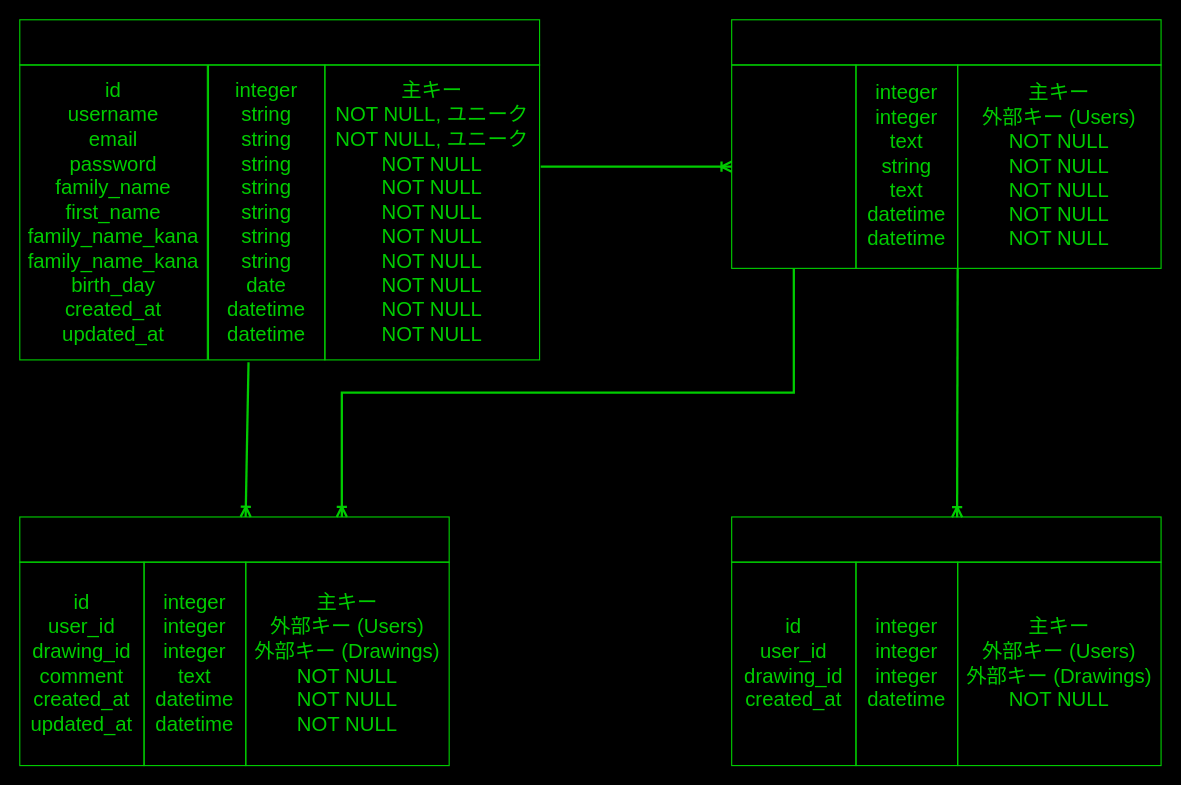
The diagram is 1181 pixels wide and 785 high, and some of its shapes have lost their labels. Here are the shapes that lost their labels. From the top down, the box of each, then its label:
(19, 19, 540, 65): Users
(731, 19, 1161, 65): Drawings
(731, 64, 856, 268): id user_id image_data title description created_at updated_at
(19, 516, 449, 562): Comments
(731, 516, 1161, 562): Likes
